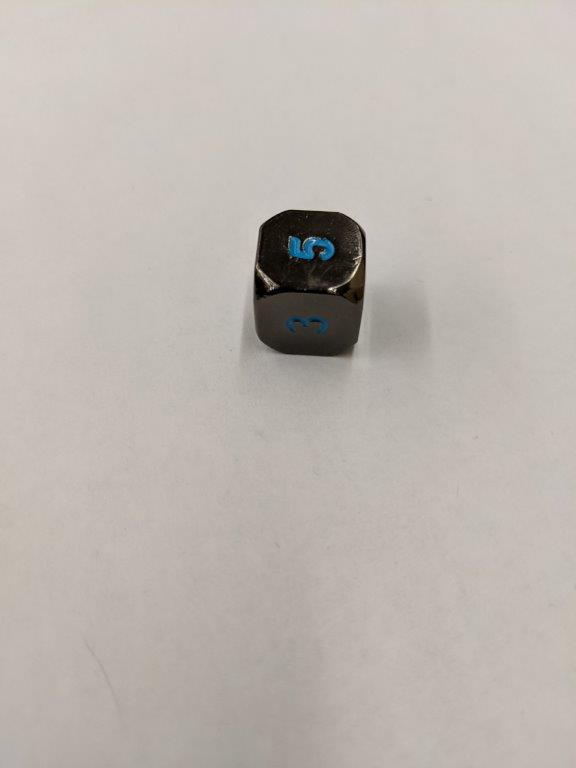d6-5: (253, 209, 369, 358)
